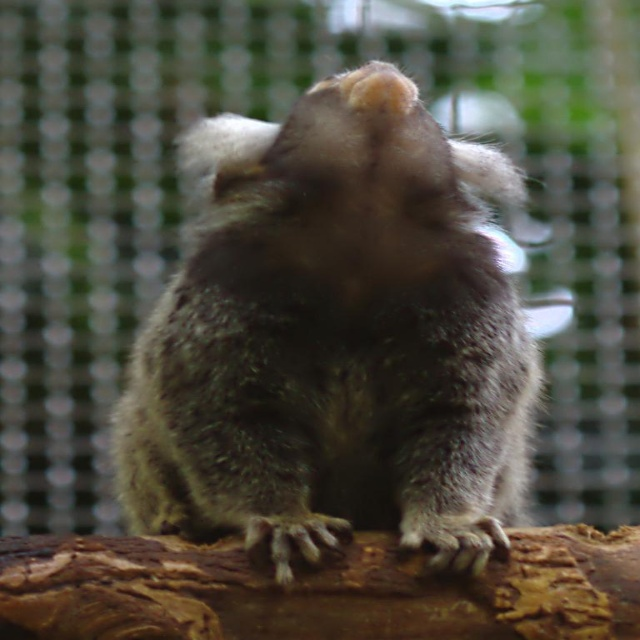Monkey: (107, 39, 563, 626)
